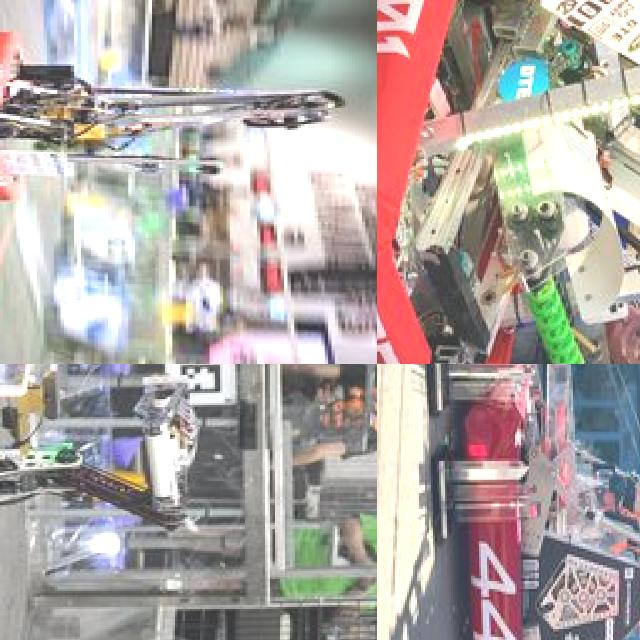FRC-Robots: (377, 0, 640, 364), (0, 0, 376, 215), (0, 364, 291, 640), (441, 373, 640, 640)
